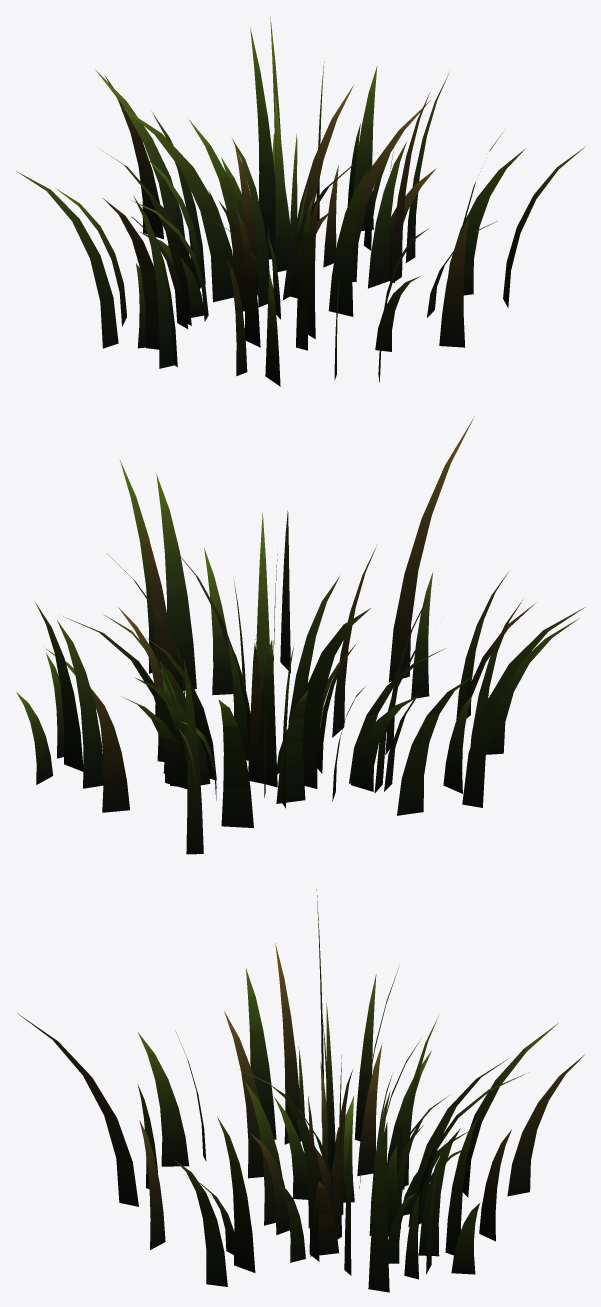
File: SM_V2_Grass_B.fbx
3 renders of one model, top to bottom at view 1: azimuth 30°, elevation 25°; view 2: azimuth 150°, elevation 25°; view 3: azimuth 270°, elevation 25°, orthographic. The views are drawn at different scales.
Parts seen in each view (by area): view 1: SM_V2_Grass_B; view 2: SM_V2_Grass_B; view 3: SM_V2_Grass_B.
Boxes of the visible parts, x1,y1,x2,y2 form: SM_V2_Grass_B: (16, 16, 585, 386); SM_V2_Grass_B: (16, 416, 584, 854); SM_V2_Grass_B: (17, 889, 585, 1292).
Size of the model in its own units: 1.13 by 0.4386 by 1.17.
